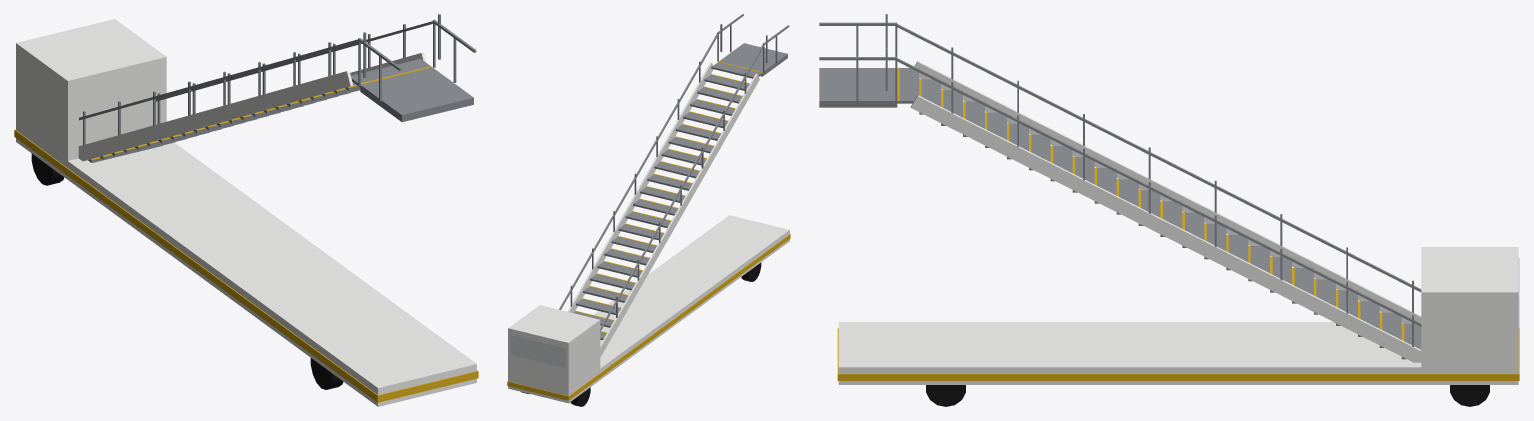
The model's file is ac_boarding_stairs.glb.
3 views of the same model, side by side, from view 1: azimuth 30°, elevation 25°; view 2: azimuth 150°, elevation 25°; view 3: azimuth 270°, elevation 25° (orthographic). The views are drawn at different scales.
Visible parts, largest first — view 1: ac_boarding_stairs; view 2: ac_boarding_stairs; view 3: ac_boarding_stairs.
Boxes of the visible parts, x1,y1,x2,y2 form: ac_boarding_stairs: [14, 14, 478, 406]; ac_boarding_stairs: [507, 14, 790, 406]; ac_boarding_stairs: [819, 14, 1519, 406].
Size of the model in its own units: 2.24 by 7.99 by 14.37.
